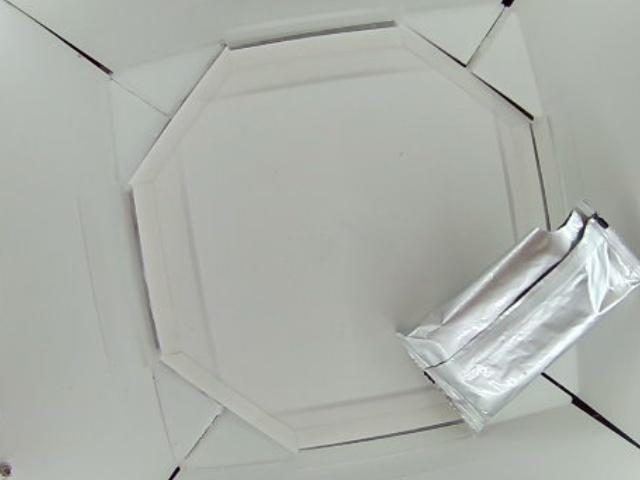Medicine: (394, 204, 640, 435)
